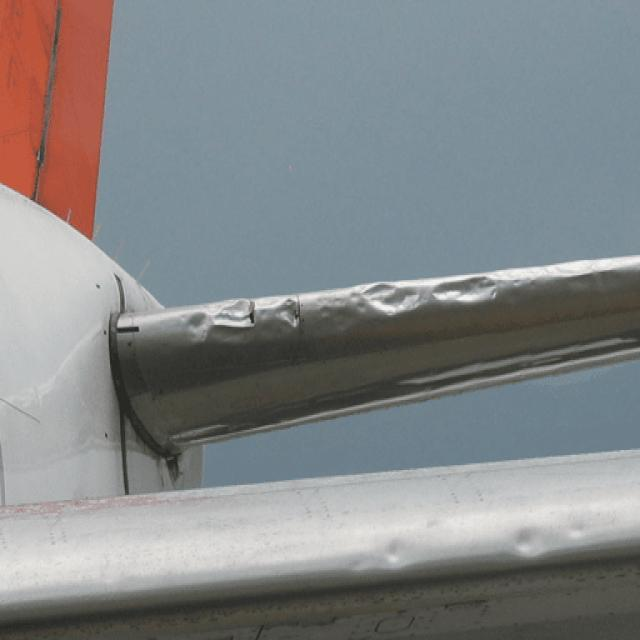dent: (346, 281, 432, 318), (316, 292, 369, 332), (434, 275, 498, 308), (502, 265, 564, 296), (503, 523, 552, 560), (564, 266, 622, 289), (213, 300, 256, 328), (382, 533, 412, 570), (270, 300, 303, 329), (341, 554, 378, 578), (565, 514, 596, 538), (186, 310, 209, 340), (427, 519, 440, 530)
